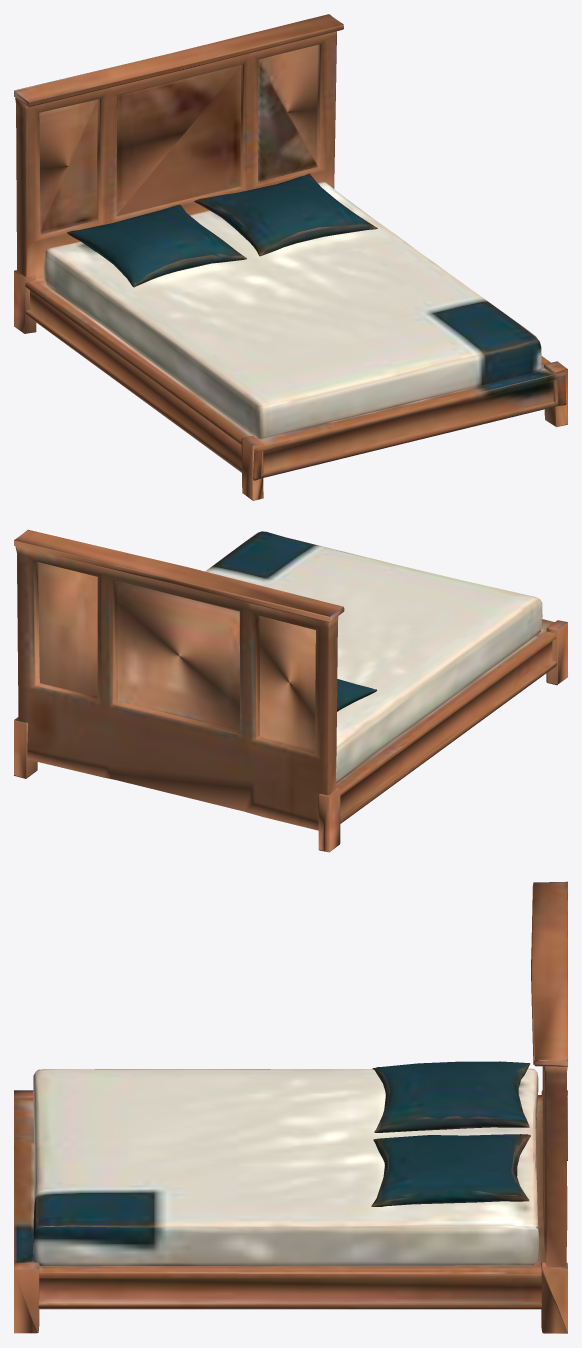
File: double-bed.lod1.glb
3 renders of one model, top to bottom at view 1: azimuth 30°, elevation 25°; view 2: azimuth 150°, elevation 25°; view 3: azimuth 270°, elevation 25°, orthographic. The views are drawn at different scales.
Size of the model in its own units: 1.6 by 1.15 by 2.1.
1 material, 1 textured.
